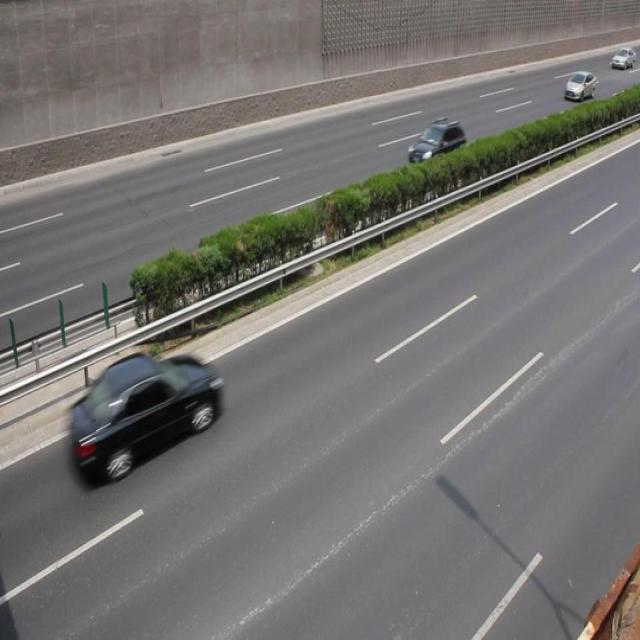car: (64, 352, 220, 484), (406, 118, 465, 174), (563, 70, 594, 99)
